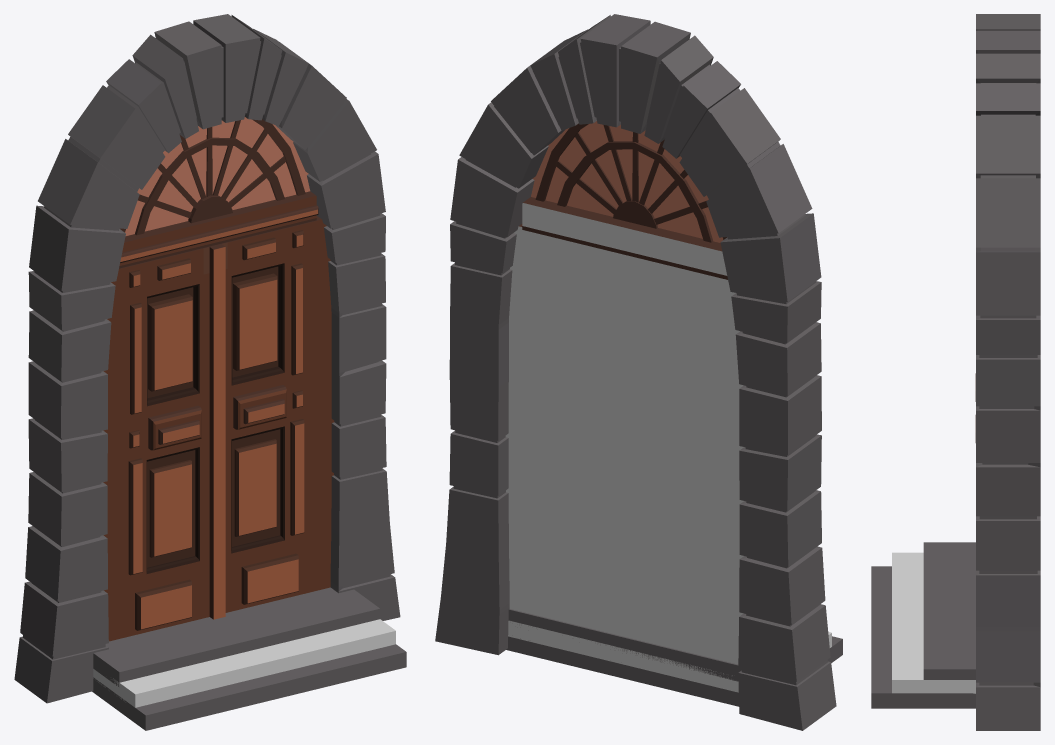
The model's file is PortaMadeira.fbx.
3 renders of one model, left to right at view 1: azimuth 30°, elevation 25°; view 2: azimuth 150°, elevation 25°; view 3: azimuth 270°, elevation 25°, orthographic. The views are drawn at different scales.
Parts seen in each view (by area): view 1: PortaMadeira_LoPo; view 2: PortaMadeira_LoPo; view 3: PortaMadeira_LoPo.
Boxes of the visible parts, x1,y1,x2,y2 form: PortaMadeira_LoPo: [14, 14, 406, 730]; PortaMadeira_LoPo: [435, 14, 842, 730]; PortaMadeira_LoPo: [871, 14, 1040, 730].
Size of the model in its own units: 120 by 200 by 50.
